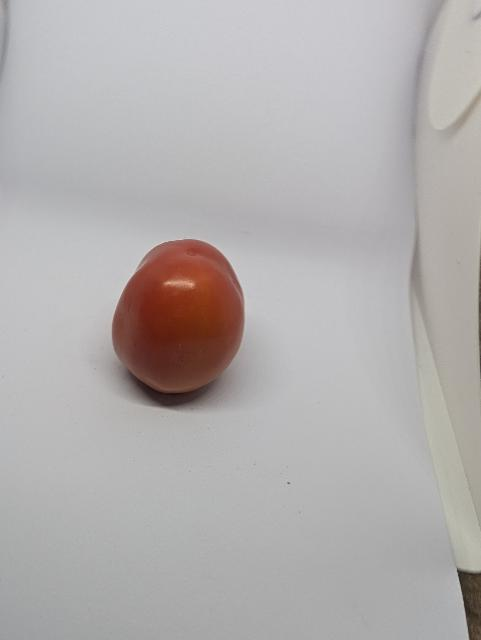red: (102, 227, 261, 411)
